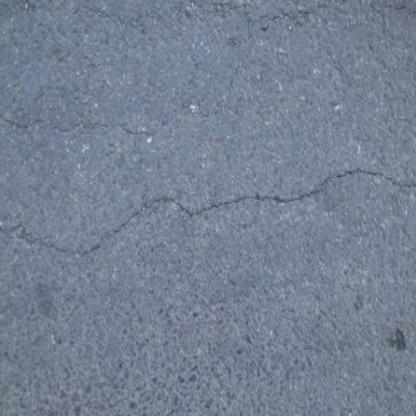Cracks: (0, 0, 416, 141), (0, 165, 416, 261)
